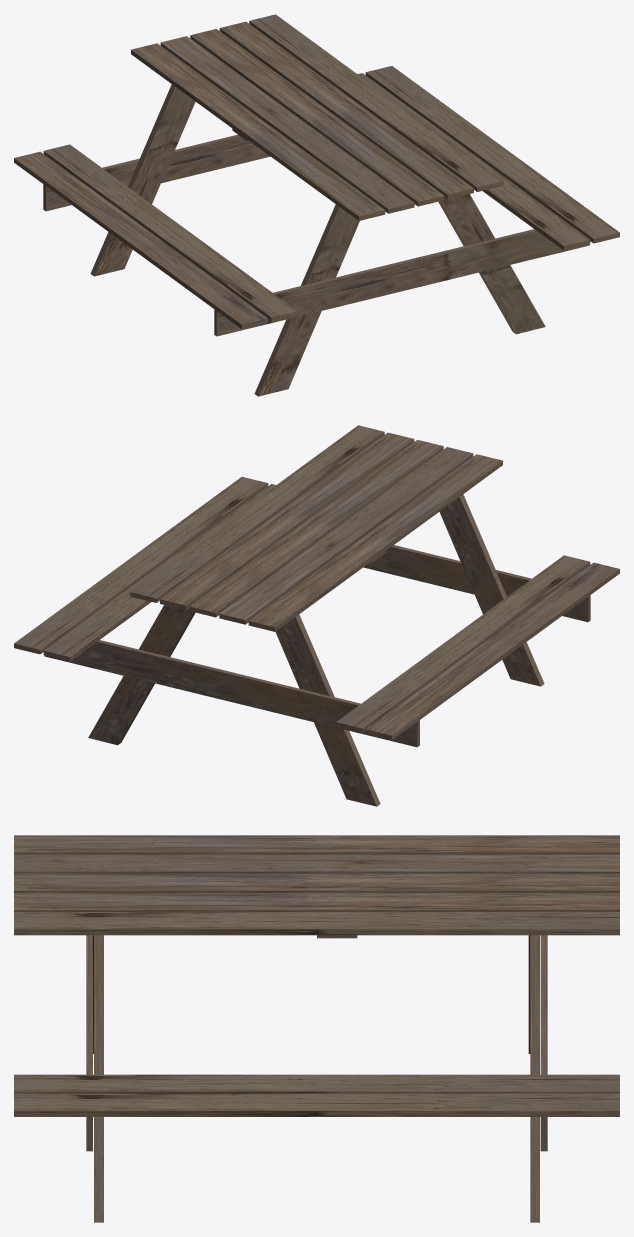
Rendered from BancaMesa.obj.
3 renders of one model, top to bottom at view 1: azimuth 30°, elevation 25°; view 2: azimuth 150°, elevation 25°; view 3: azimuth 270°, elevation 25°, orthographic. The views are drawn at different scales.
Parts seen in each view (by area): view 1: mesa1; view 2: mesa1; view 3: mesa1.
Boxes of the visible parts, x1,y1,x2,y2 form: mesa1: (14,14,619,396); mesa1: (14,425,619,806); mesa1: (14,835,619,1222).
Size of the model in its own units: 1.72 by 0.8094 by 1.8.
